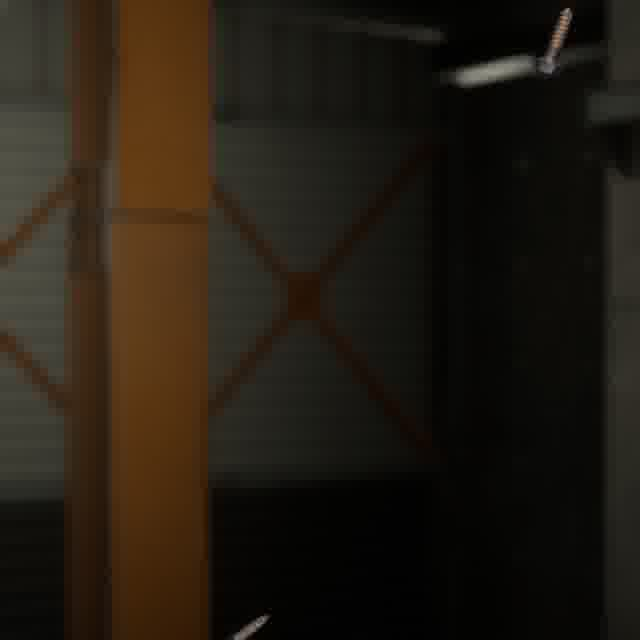bolt: (530, 3, 577, 79), (222, 609, 273, 640)
